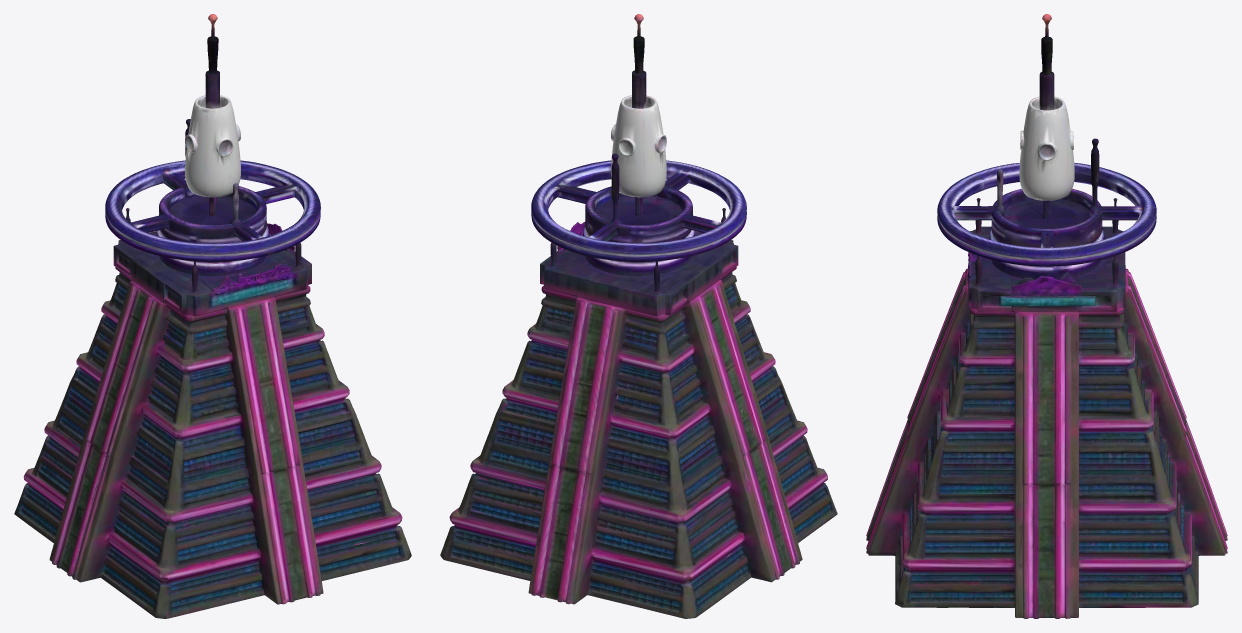
File: tower-d.glb
3 renders of one model, left to right at view 1: azimuth 30°, elevation 25°; view 2: azimuth 150°, elevation 25°; view 3: azimuth 270°, elevation 25°, orthographic.
Parts seen in each view (by area): view 1: material; view 2: material; view 3: material.
Boxes of the visible parts, box(x1,y1,x2,y2) form: material: box(14, 14, 411, 618); material: box(440, 14, 837, 618); material: box(866, 14, 1227, 618).
Bounding box in the file's own units: 0.5908 × 0.9775 × 0.6044.
1 material, 1 textured.
